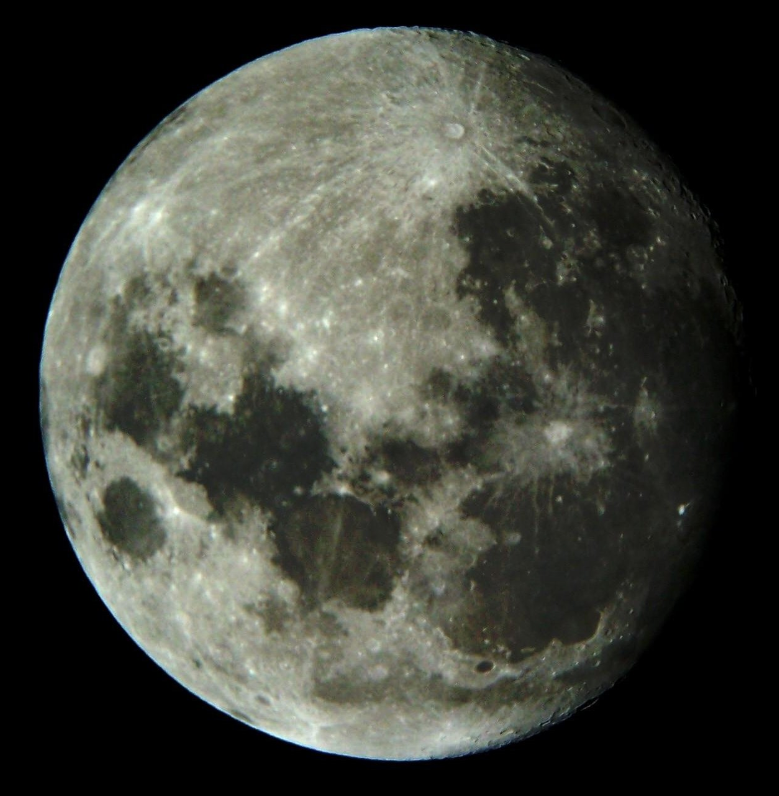crater: (352, 72, 526, 186), (77, 469, 182, 565), (519, 377, 598, 471), (665, 490, 697, 532), (463, 650, 502, 680), (247, 684, 287, 712), (180, 645, 215, 675), (198, 197, 232, 226), (361, 628, 392, 659), (357, 323, 387, 348), (239, 241, 270, 265), (444, 343, 470, 365)
